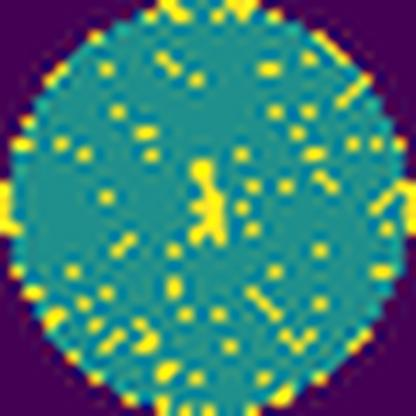Center: (178, 150, 230, 252)
